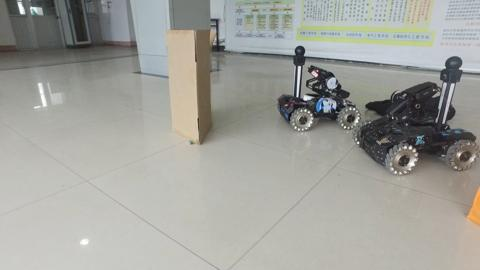box: (166, 29, 213, 146)
chariot: (351, 51, 479, 175), (273, 45, 358, 131)
